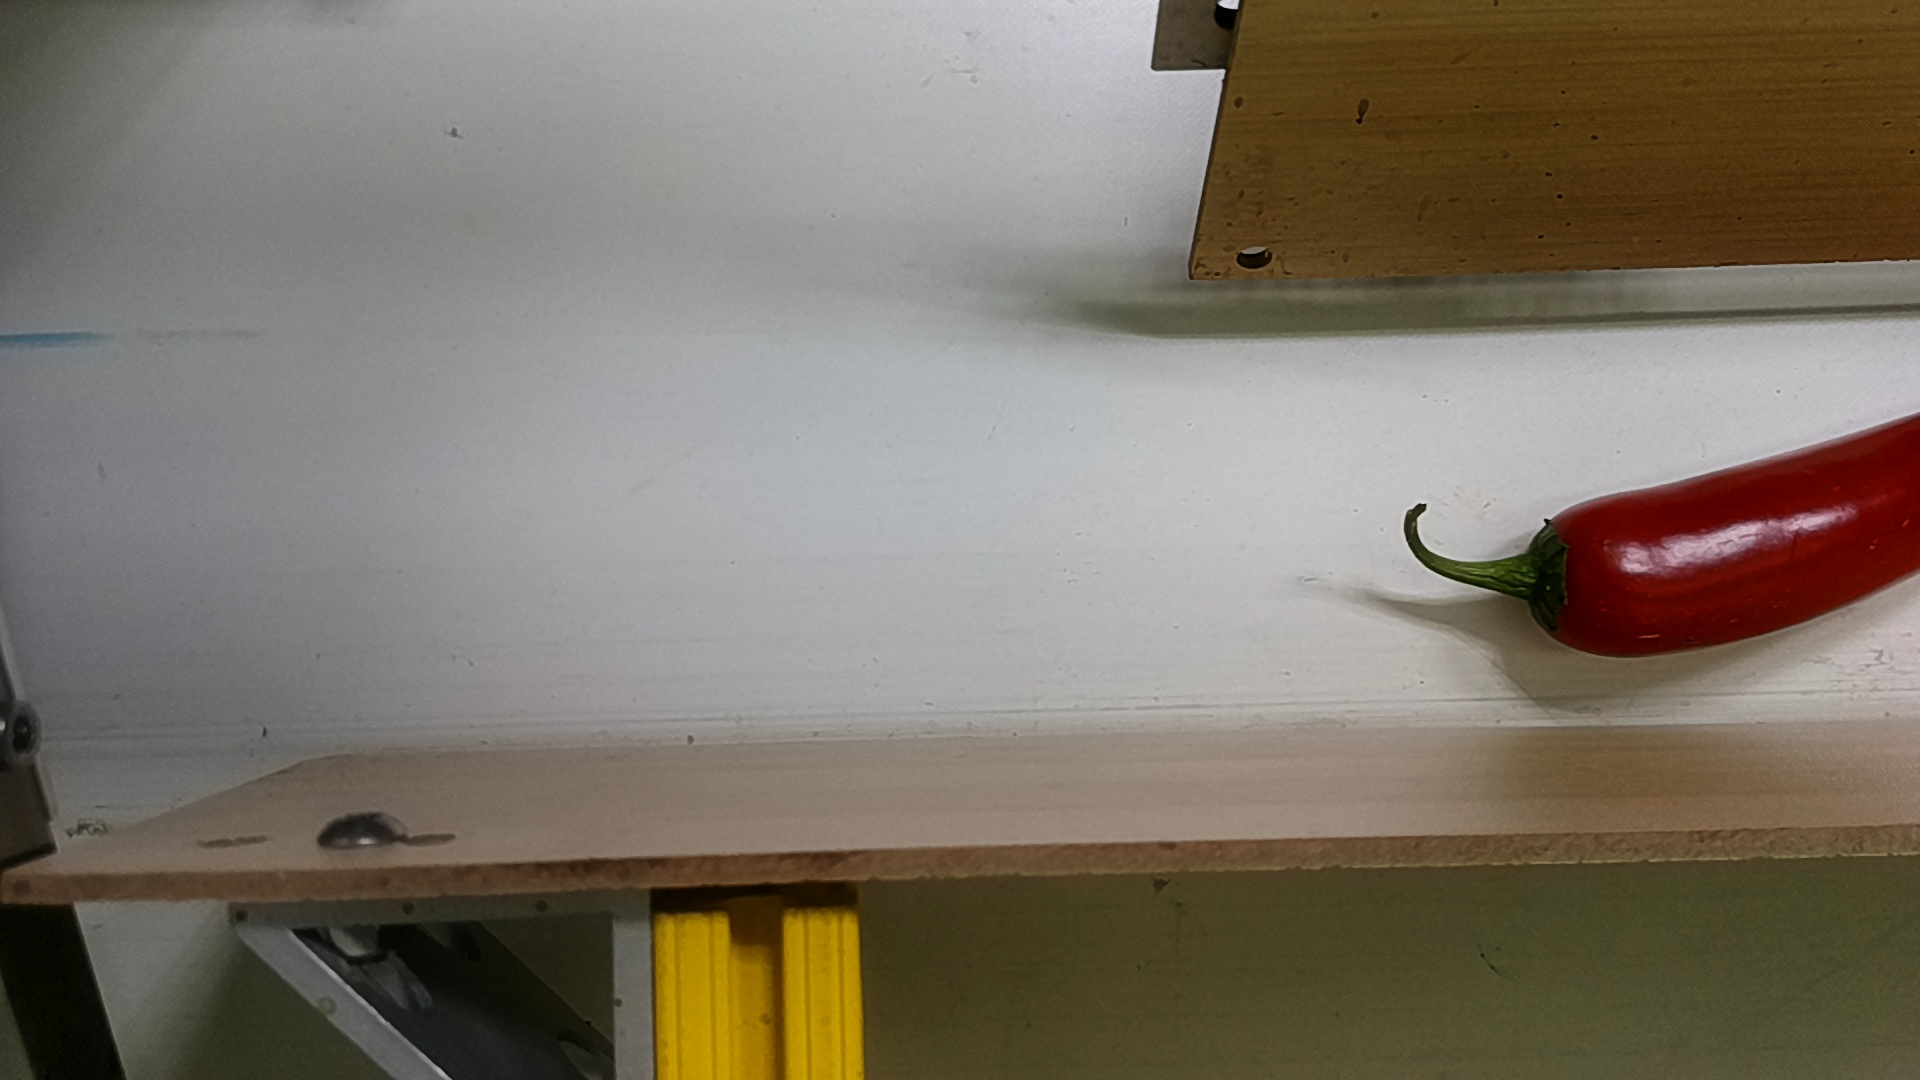Cut Point: (1513, 497, 1621, 661)
